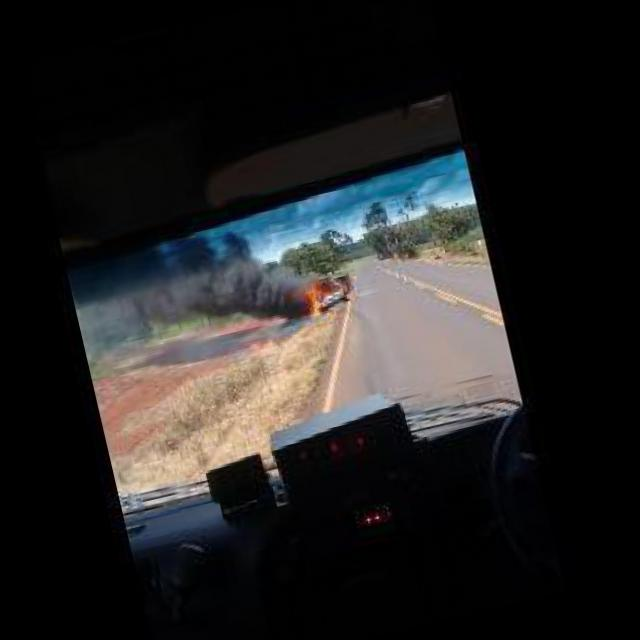fire: (297, 285, 322, 318), (334, 279, 349, 291), (246, 340, 264, 350)
smoke: (92, 216, 316, 362)
